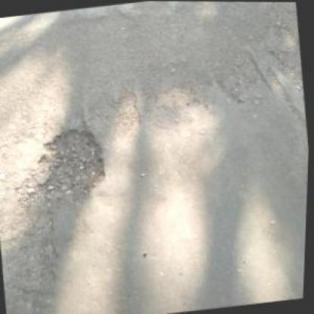Hueco: (24, 122, 115, 206)
